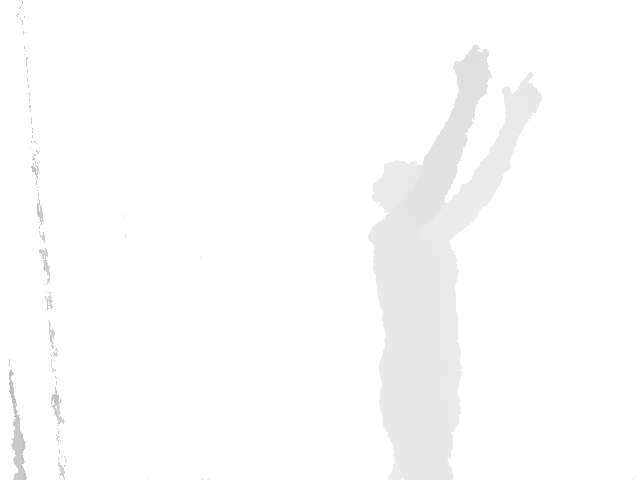hand: (452, 44, 493, 105), (502, 72, 542, 123)
head: (373, 160, 440, 218)
person: (368, 44, 542, 480)
